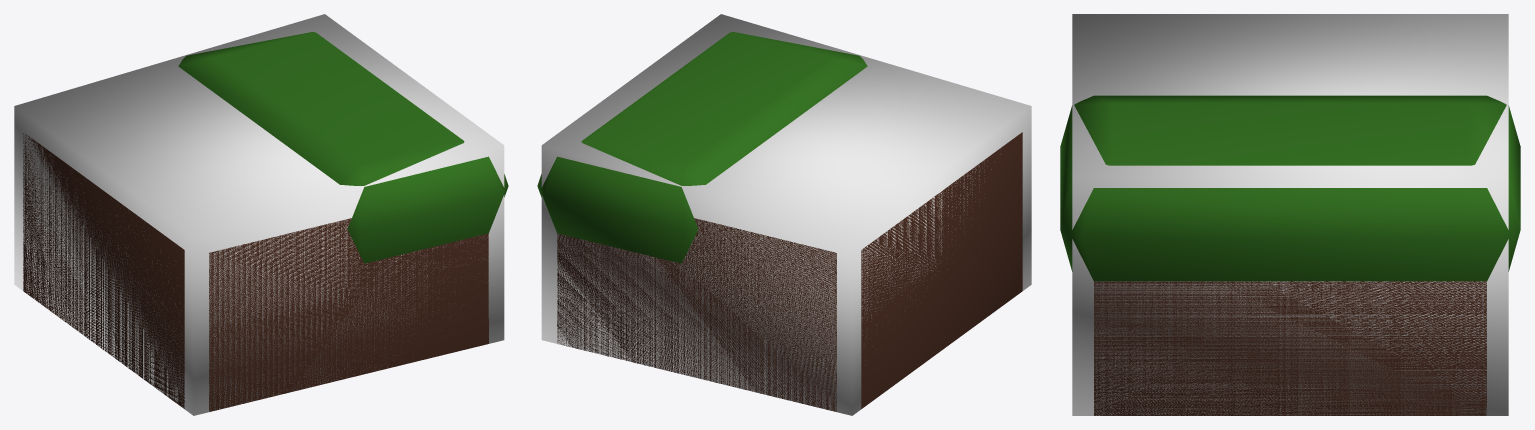
File: path_edge_straight.glb
3 renders of one model, left to right at view 1: azimuth 30°, elevation 25°; view 2: azimuth 150°, elevation 25°; view 3: azimuth 270°, elevation 25°, orthographic. The views are drawn at different scales.
Visible parts, largest first — view 1: path_edge_straight, path_edge_straight_phy; view 2: path_edge_straight, path_edge_straight_phy; view 3: path_edge_straight, path_edge_straight_phy.
Part boxes in pixels (x1,y1,x2,y2): path_edge_straight: (23,32,508,411); path_edge_straight_phy: (14,14,504,415); path_edge_straight: (537,32,1022,411); path_edge_straight_phy: (541,14,1031,415); path_edge_straight: (1060,95,1520,415); path_edge_straight_phy: (1072,14,1508,415).
Size of the model in its own units: 1.03 by 0.6 by 1.05.
